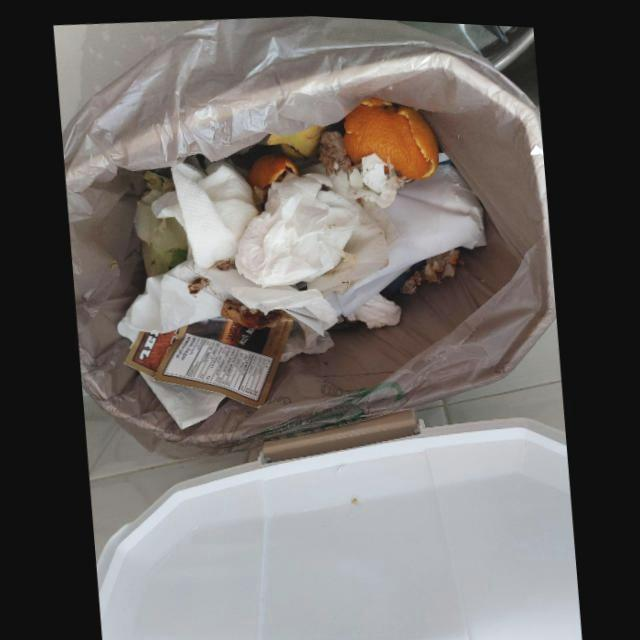food_wrapper: (126, 297, 295, 404)
left_over_food: (399, 241, 467, 292), (318, 127, 355, 172)
paper: (326, 145, 486, 311), (121, 256, 339, 334)
